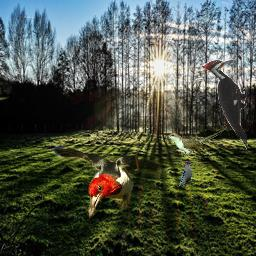Cuckoo: (165, 127, 226, 155)
Woodpecker: (47, 141, 162, 220), (200, 59, 247, 151), (178, 161, 194, 188)
